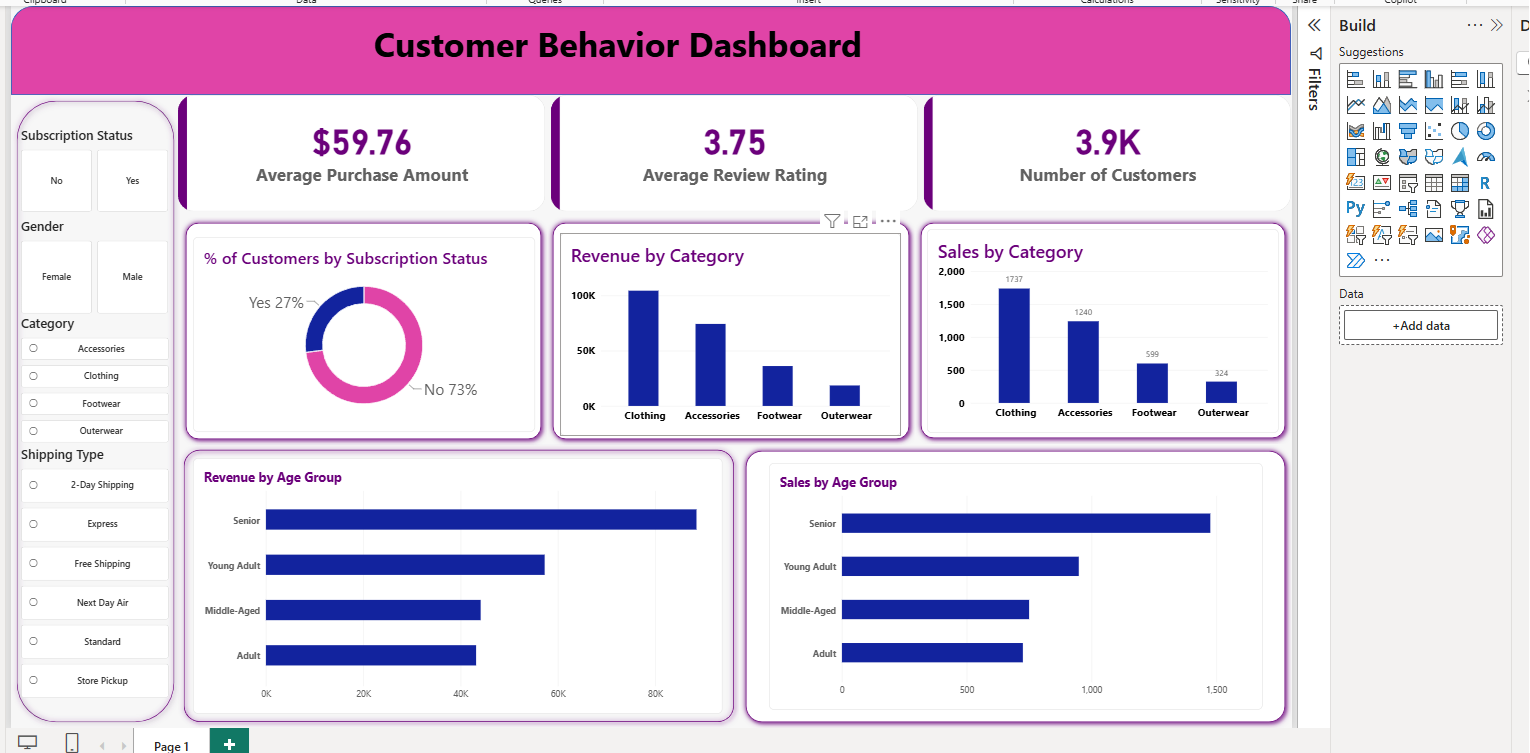

Layout of this report page (visuals, bound fields, positions):
{"tool":"powerbi","page":{"name":"Page 1","canvas":[2002,1129],"ordinal":0},"visuals":[{"type":"cardVisual","fields":{"Data":["public customer.Average Purchase Amount","public customer.Average Review Rating","public customer.Number of Customers"]},"box":[261.1,139.2,1740.4,183],"z":0},{"type":"shape","box":[0,0,2001.6,139.2],"z":1000},{"type":"textbox","box":[119.7,22.4,1657.4,459.2],"z":2000},{"type":"shape","box":[264.3,329.9,573.9,356.5],"z":3000},{"type":"donutChart","title":"% of Customers by Subscription Status","fields":{"Category":["public customer.Subscription Status"],"Y":["CountNonNull(public customer.Customer ID)"]},"box":[284.6,361.2,534.8,304.9],"z":4000},{"type":"shape","box":[838.1,329.9,575.4,356.5],"z":5000},{"type":"shape","box":[1413.6,329.9,588,355],"z":6000},{"type":"clusteredColumnChart","title":"Revenue by Category","fields":{"Category":["public customer.Category"],"Y":["Sum(public customer.Purchase Amount)"]},"box":[858.5,355,533.2,317.4],"z":7000},{"type":"clusteredColumnChart","title":"Sales by Category","fields":{"Category":["public customer.Category"],"Y":["CountNonNull(public customer.Customer ID)"]},"box":[1432.4,348.7,550.4,319],"z":8000},{"type":"shape","box":[0,139.2,264.3,989.8],"z":9000},{"type":"advancedSlicerVisual","title":"Subscription Status","fields":{"Values":["public customer.Subscription Status"]},"box":[15.6,187.6,231.4,134.5],"z":10000},{"type":"advancedSlicerVisual","fields":{"Values":["public customer.Gender"]},"box":[15.6,329.9,231.4,151.7],"z":11000},{"type":"advancedSlicerVisual","fields":{"Values":["public customer.Category"]},"box":[15.6,481.6,231.4,203.3],"z":12000},{"type":"advancedSlicerVisual","fields":{"Values":["public customer.Shipping Type"]},"box":[15.6,686.5,231.4,398.7],"z":13000},{"type":"clusteredBarChart","title":"Revenue by Age Group","fields":{"Category":["public customer.Age Group"],"Y":["Sum(public customer.Purchase Amount)"]},"box":[285,707,827.9,400.4],"z":14000},{"type":"shape","box":[261.5,685.4,878.4,443.7],"z":14001},{"type":"shape","box":[1139.9,686.5,861.6,442.5],"z":14002},{"type":"clusteredBarChart","title":"Sales by Age Group","fields":{"Category":["public customer.Age Group"],"Y":["CountNonNull(public customer.Customer ID)"]},"box":[1185.3,714.6,772.5,386.2],"z":14003}]}

Visuals, with their boxes in screenshot pixels (x1, y1, x2, y2):
cardVisual - public customer.Average Purchase Amount x public customer.Average Review Rating: x1=178, y1=92, x2=1282, y2=208
shape: x1=12, y1=4, x2=1282, y2=92
textbox: x1=88, y1=18, x2=1139, y2=310
shape: x1=180, y1=213, x2=544, y2=439
"% of Customers by Subscription Status" donutChart: x1=193, y1=233, x2=532, y2=427
shape: x1=544, y1=213, x2=909, y2=439
shape: x1=909, y1=213, x2=1282, y2=439
"Revenue by Category" clusteredColumnChart: x1=557, y1=229, x2=895, y2=431
"Sales by Category" clusteredColumnChart: x1=921, y1=225, x2=1270, y2=428
shape: x1=12, y1=92, x2=180, y2=720
"Subscription Status" advancedSlicerVisual: x1=22, y1=123, x2=169, y2=208
advancedSlicerVisual - public customer.Gender: x1=22, y1=213, x2=169, y2=310
advancedSlicerVisual - public customer.Category: x1=22, y1=310, x2=169, y2=439
advancedSlicerVisual - public customer.Shipping Type: x1=22, y1=440, x2=169, y2=692
"Revenue by Age Group" clusteredBarChart: x1=193, y1=453, x2=718, y2=707
shape: x1=178, y1=439, x2=735, y2=720
shape: x1=735, y1=440, x2=1282, y2=720
"Sales by Age Group" clusteredBarChart: x1=764, y1=457, x2=1254, y2=702
